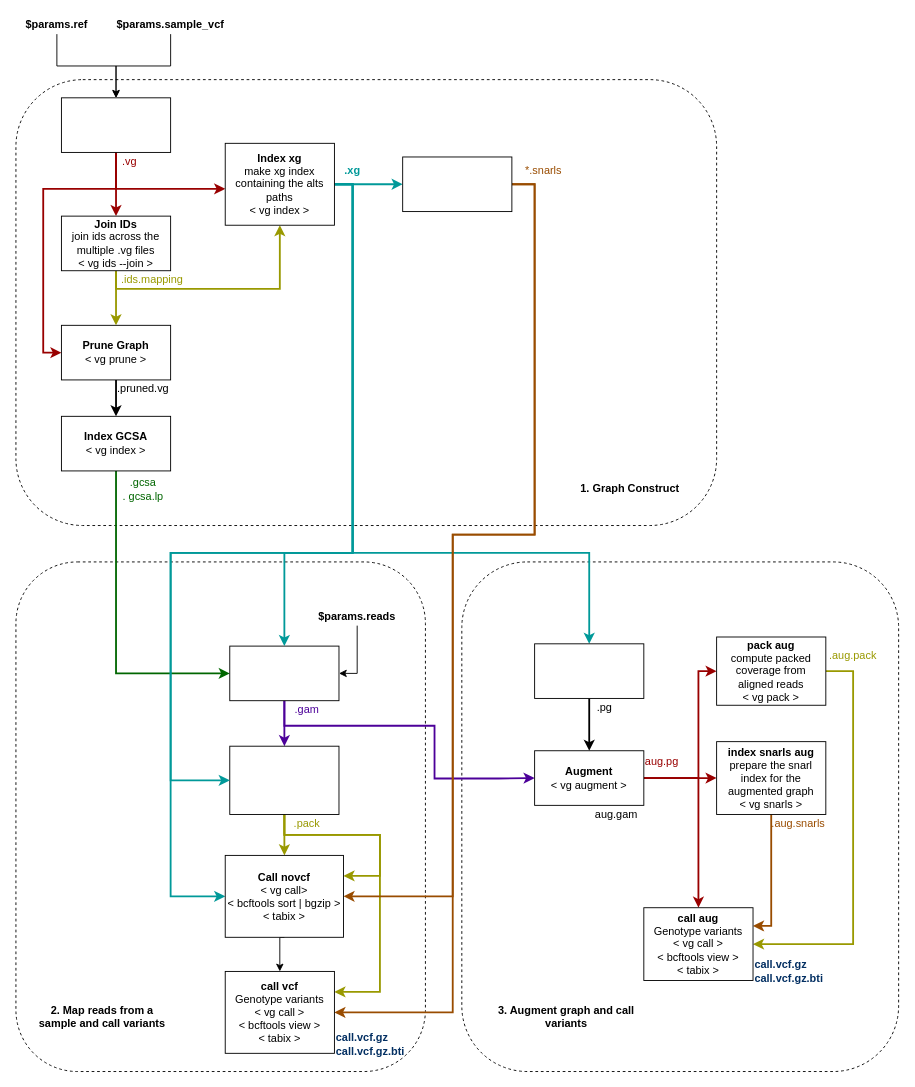
This 915x1087 diagram has some shape labels left out. The centre of each missing label's shape, as x and y in pixels:
Graph Construct make a .vg for a chromosome < vg construct >: point 116,124
Index Snarls prepare the snarls index < vg snarls >: point 457,184
Map map reads to the graph < vg map >: point 284,673
pack compute packed coverage from aligned reads < vg pack >: point 284,779
PG Converter < vg convert -p >: point 589,670
